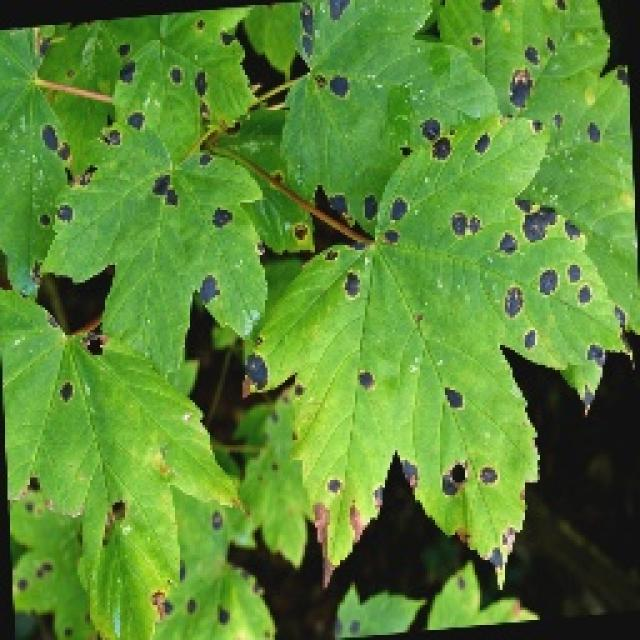Tar_Spot: (36, 32, 610, 528)
